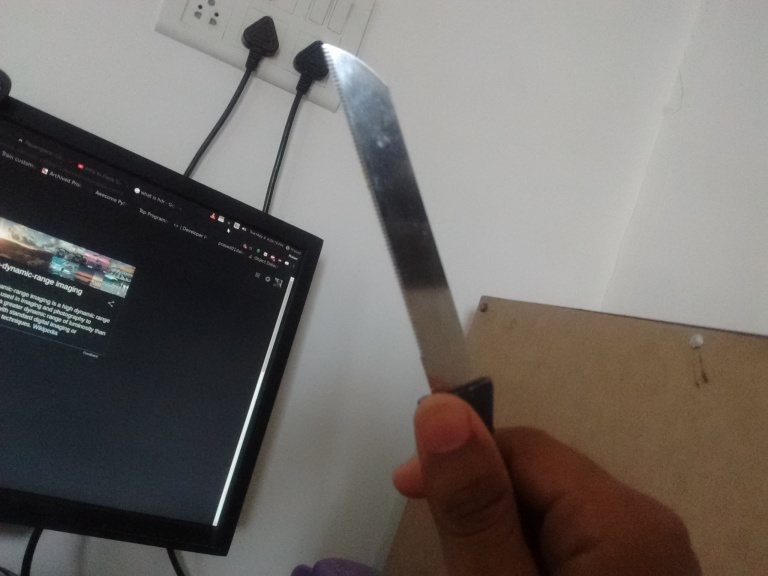knife: (322, 44, 495, 389)
